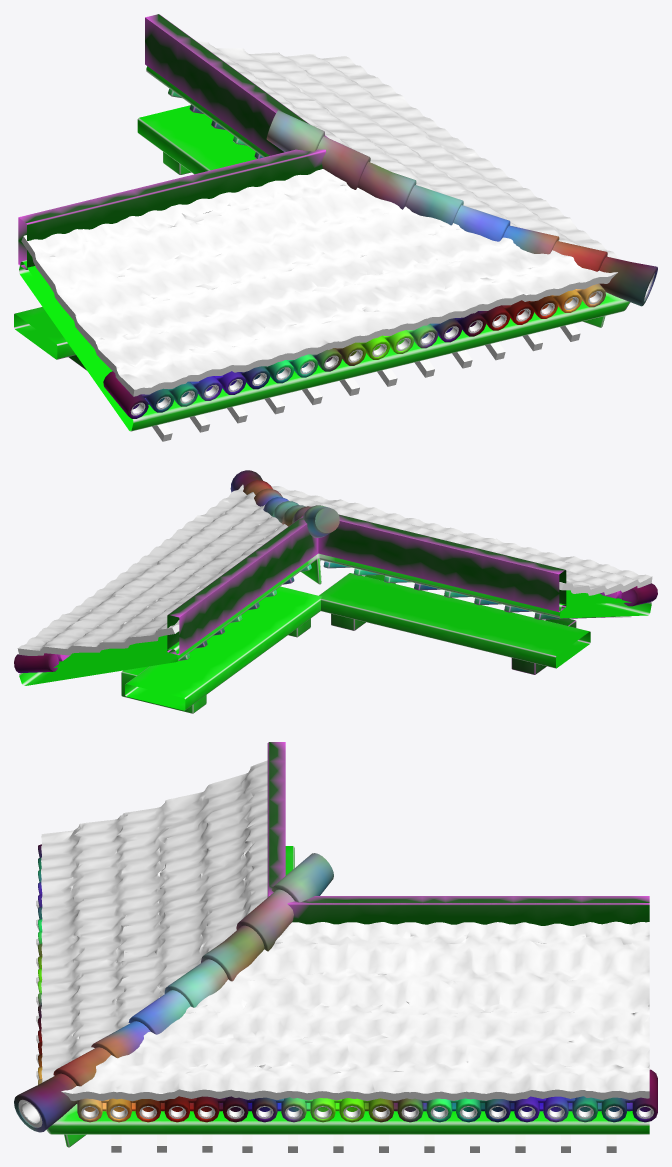
The model's file is overhang_side_200_01_corner.fbx.
3 renders of one model, top to bottom at view 1: azimuth 30°, elevation 25°; view 2: azimuth 150°, elevation 25°; view 3: azimuth 270°, elevation 25°, orthographic. The views are drawn at different scales.
Visible parts, largest first — view 1: overhang_side_200_01_corner; view 2: overhang_side_200_01_corner; view 3: overhang_side_200_01_corner.
Boxes of the visible parts, <box> form: overhang_side_200_01_corner: <box>14,14,657,441</box>; overhang_side_200_01_corner: <box>14,470,657,713</box>; overhang_side_200_01_corner: <box>14,742,657,1152</box>.
Size of the model in its own units: 3.53 by 1.14 by 3.54.
